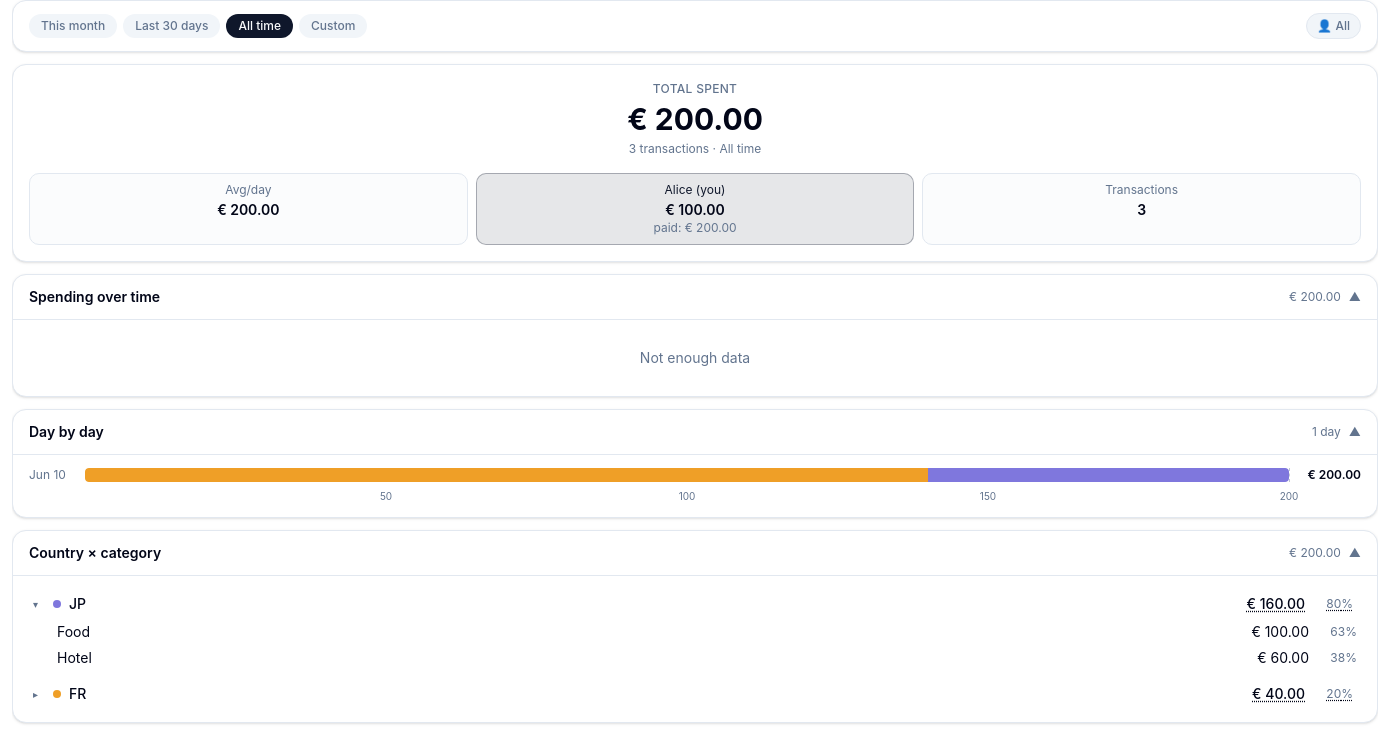
Test: DashboardTab — pivot cards › tapping the chevron collapses without navigating
Click the button with aria-label "Collapse JP" at {"x": 36, "y": 604}, box [33,594,1235,614]
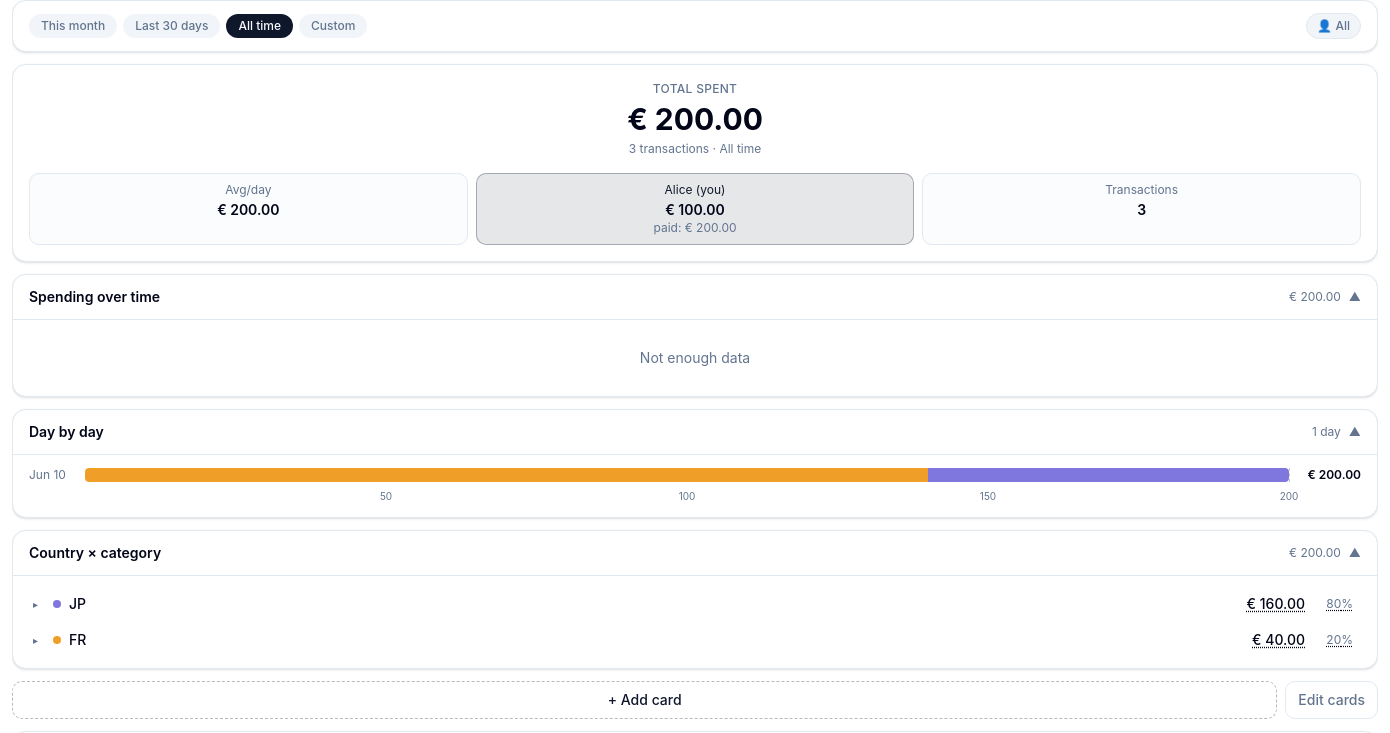
expect the button named "Show transactions for JP" is shown: met, box [1243,592,1357,616]
Note: Re-opening brings the rows back.
Click the button with aria-label "Expand JP" at {"x": 36, "y": 604}, box [33,594,1235,614]
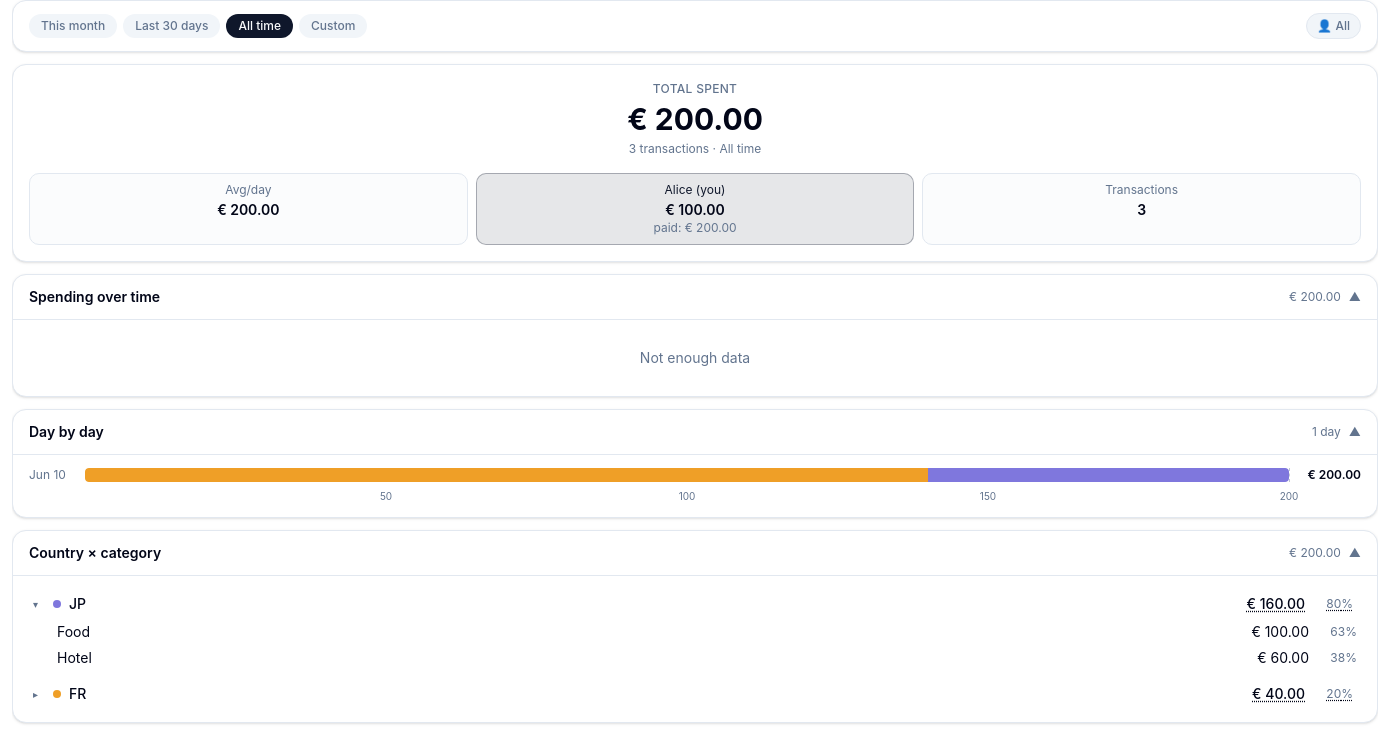
expect the button with aria-label "Show transactions for Hotel" is shown: met, box [53,646,1361,670]
